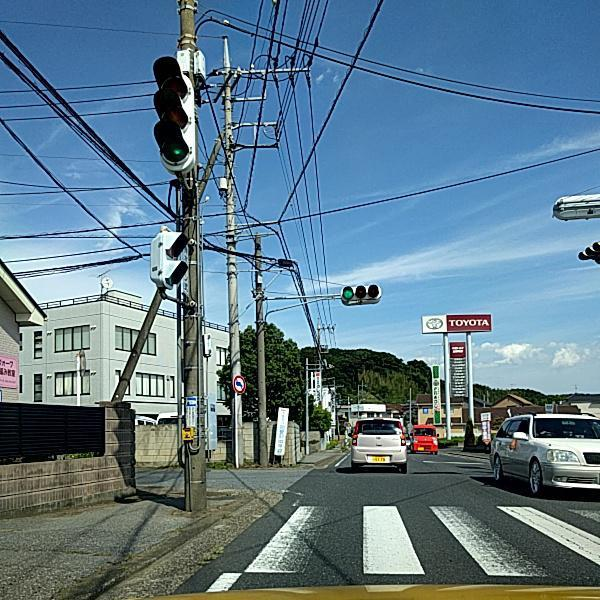D43: (273, 497, 596, 581)
